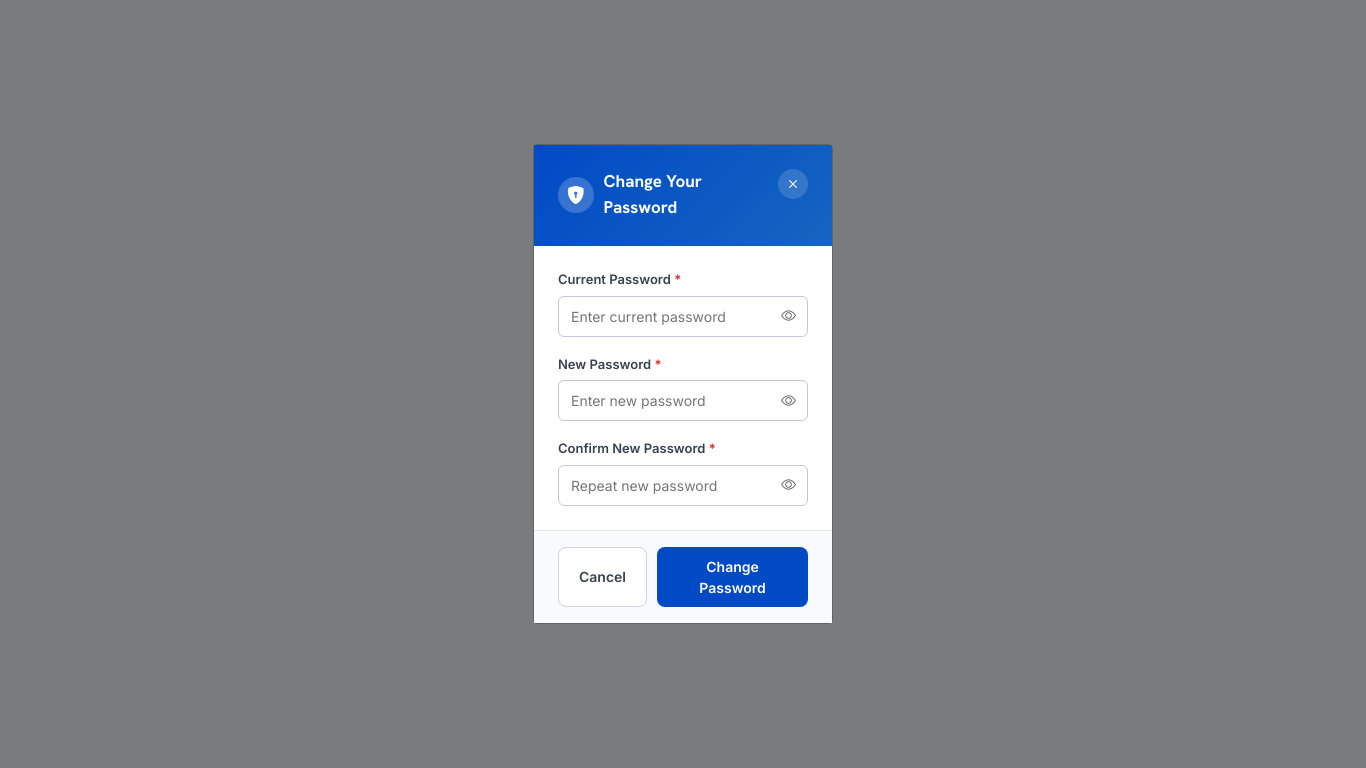
ChangePasswordModal — self service › 200 with status:false and no errors → generic failure message
The width and height of the screenshot is (1366, 768).
Type "old" into the password field with placeholder "Enter current password" at (683, 316), box x1=558 y1=296 x2=808 y2=337
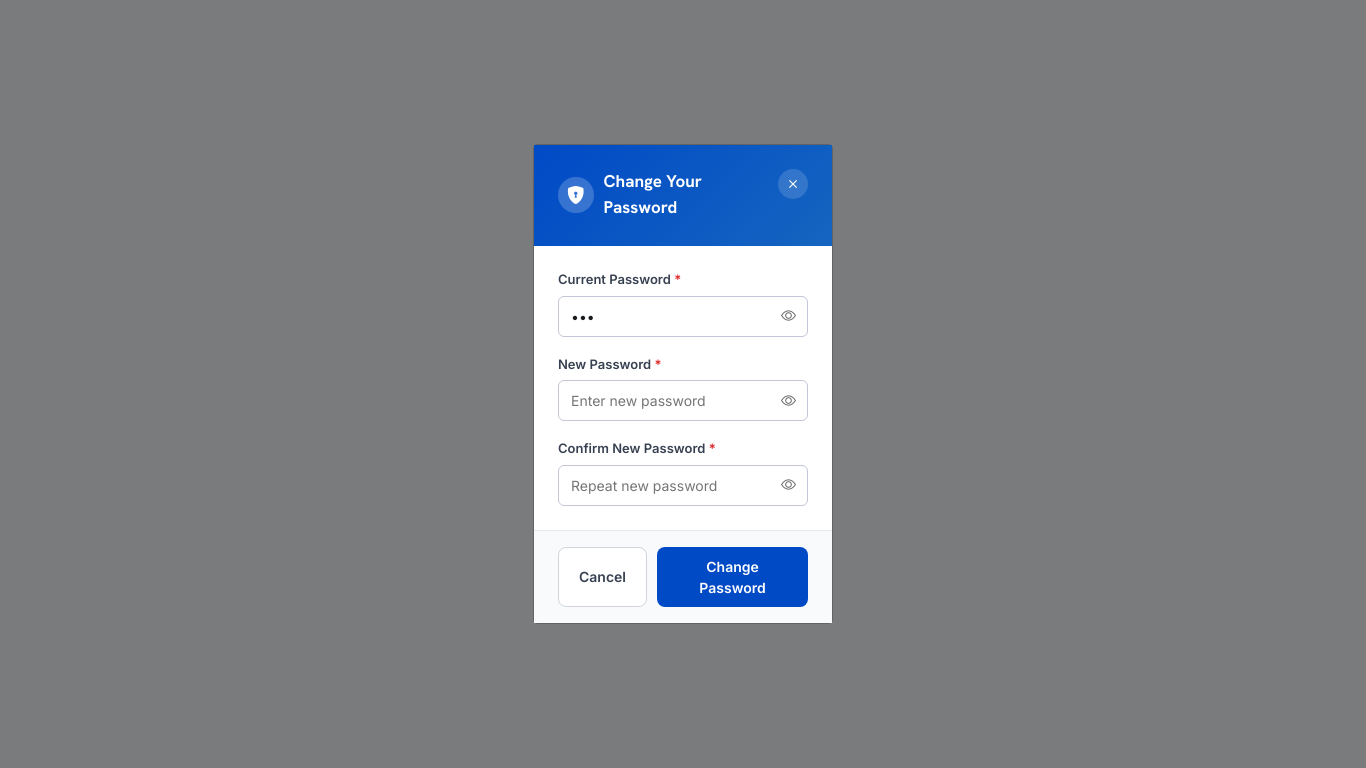
Type "NewPass1!" into the password field with placeholder "Enter new password" at (683, 401), box x1=558 y1=380 x2=808 y2=421
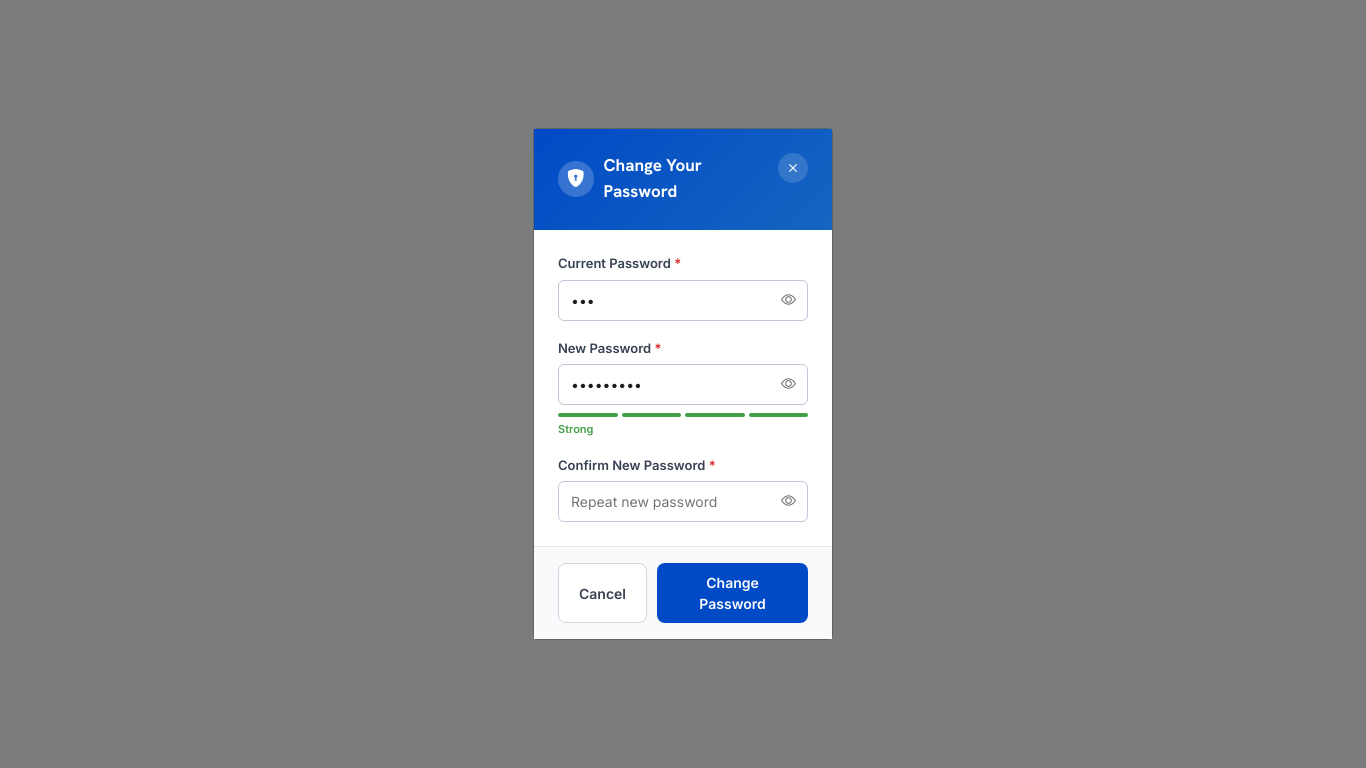
Type "NewPass1!" into the password field with placeholder "Repeat new password" at (683, 502), box x1=558 y1=481 x2=808 y2=522
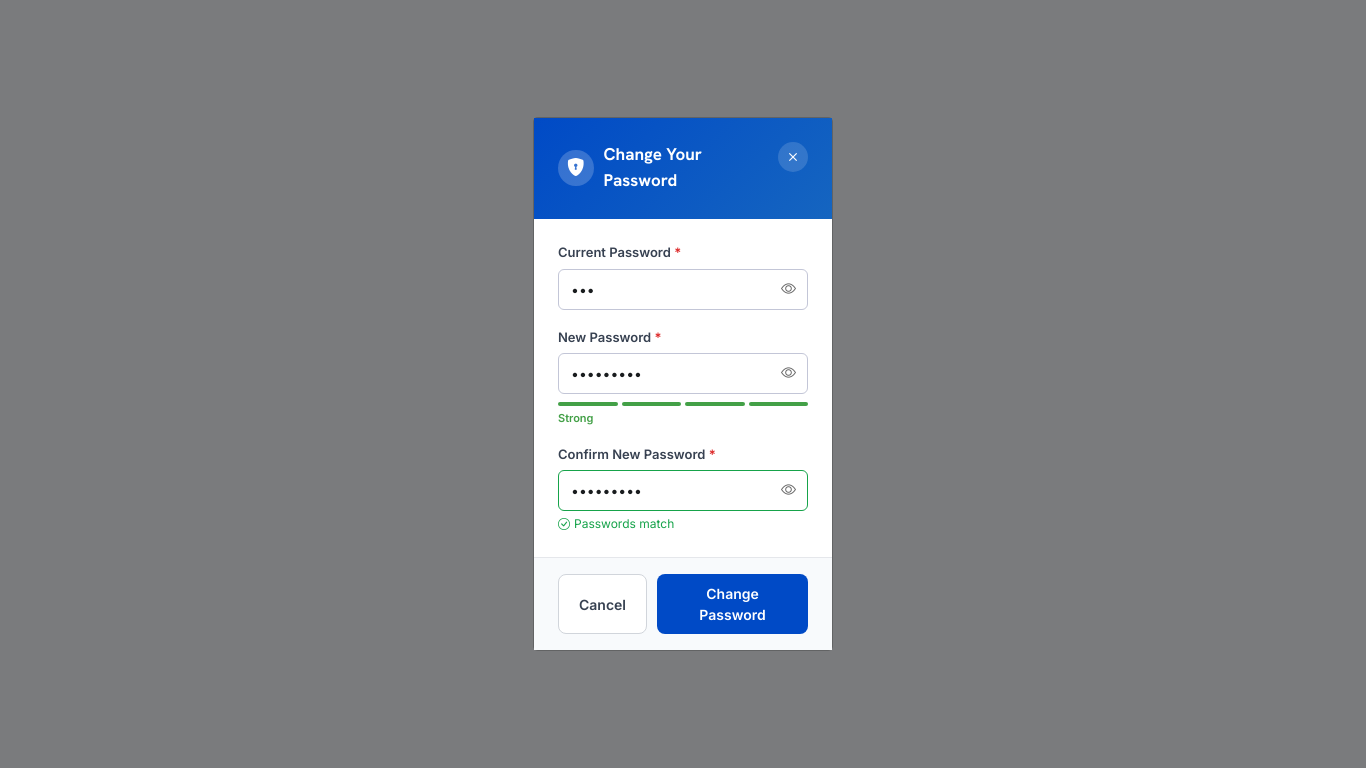
Click the button "Change Password" at (732, 604), box x1=657 y1=574 x2=808 y2=634
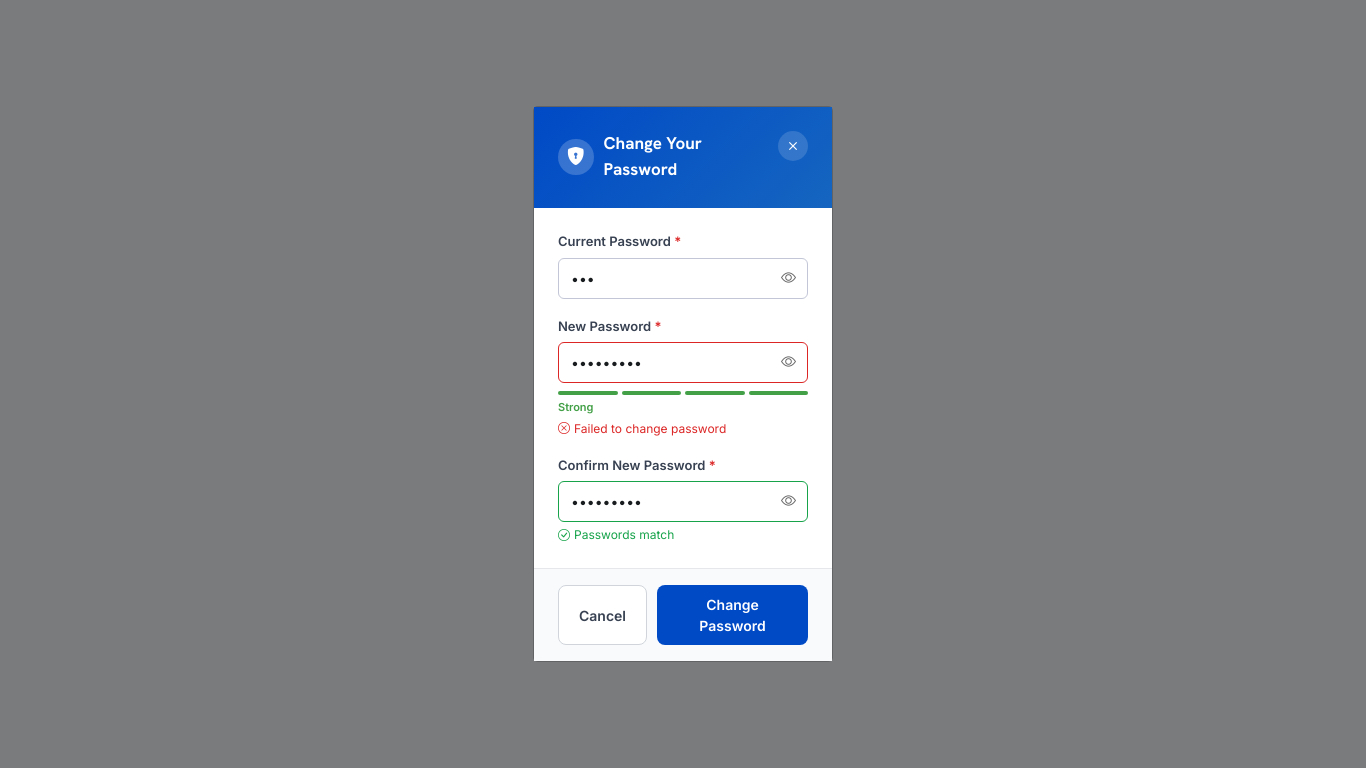
Result: the text "Failed to change password" is shown at x1=558 y1=420 x2=726 y2=436
